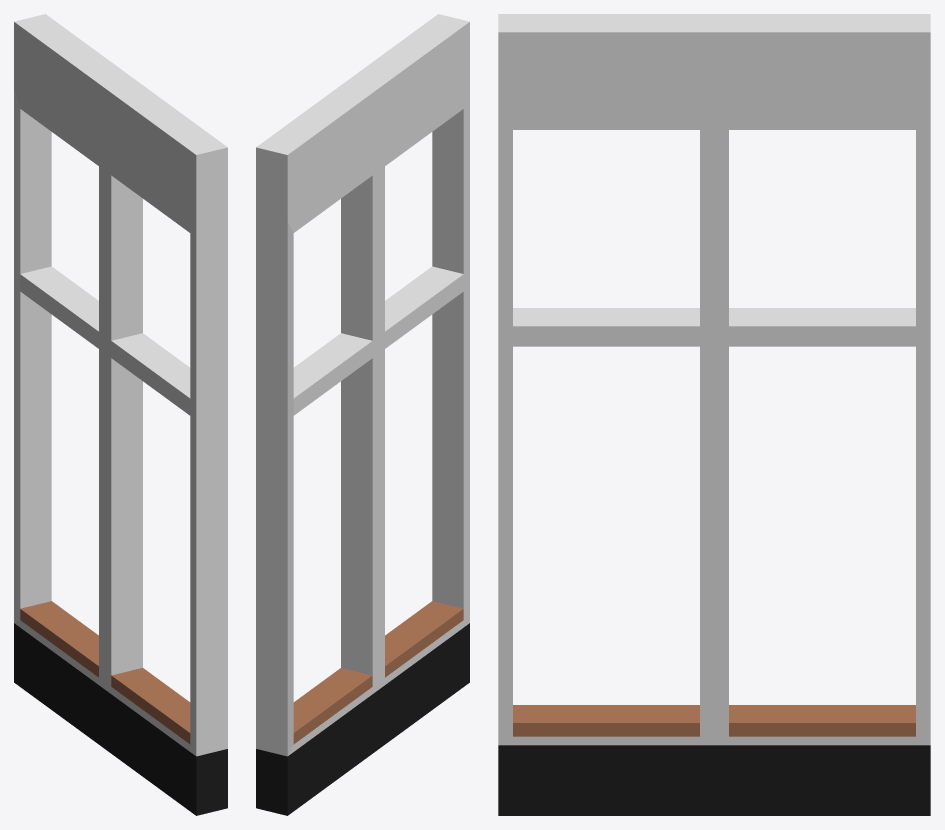
Rendered from SM_Build_Fenster_klein_hell.fbx.
The picture shows the model from 3 angles, left to right: view 1: azimuth 30°, elevation 25°; view 2: azimuth 150°, elevation 25°; view 3: azimuth 270°, elevation 25°; orthographic projection. The views are drawn at different scales.
Visible parts, largest first — view 1: Fenster klein hell; view 2: Fenster klein hell; view 3: Fenster klein hell.
Boxes of the visible parts, bbox=[...] form: Fenster klein hell: bbox=[14, 14, 227, 815]; Fenster klein hell: bbox=[256, 14, 469, 815]; Fenster klein hell: bbox=[498, 14, 930, 815].
Bounding box in the file's own units: 0.2 × 4 × 2.
